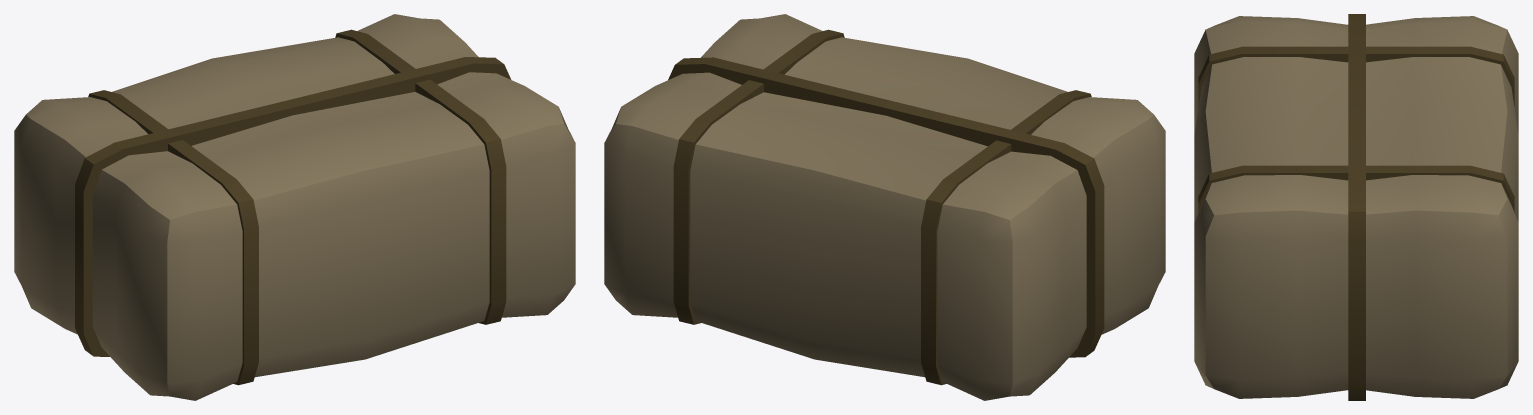
File: Package_1.gltf
3 views of the same model, side by side, from view 1: azimuth 30°, elevation 25°; view 2: azimuth 150°, elevation 25°; view 3: azimuth 270°, elevation 25° (orthographic).
Parts seen in each view (by area): view 1: Package_1; view 2: Package_1; view 3: Package_1.
Boxes of the visible parts, x1,y1,x2,y2 form: Package_1: [14, 14, 575, 400]; Package_1: [604, 14, 1165, 400]; Package_1: [1194, 14, 1518, 400].
Bounding box in the file's own units: 0.2789 × 0.1291 × 0.1845.
